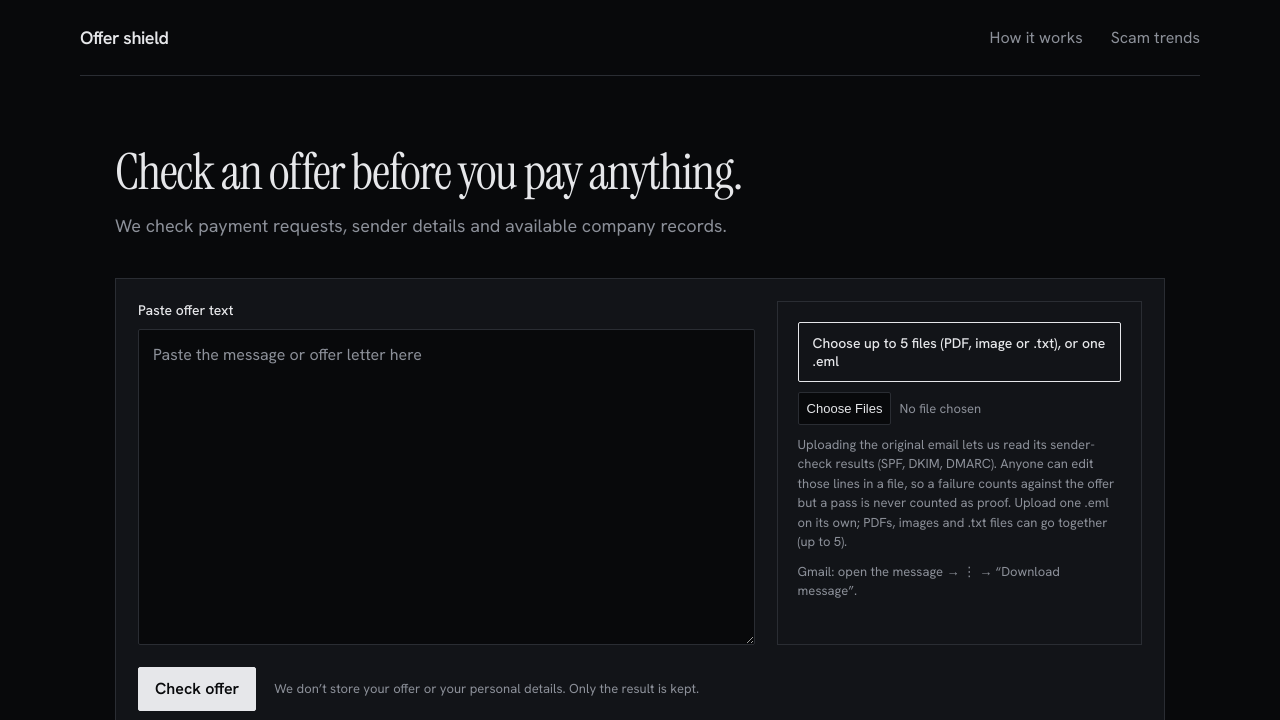
community report consent › allows deselection, requires consent and does not store the withdrawal code
The width and height of the screenshot is (1280, 720).
In the text box labelled "Paste offer text": point(446, 487) top-left (138, 329), bottom-right (755, 645), type "Test offer text"
Click the button "Check offer": point(197, 689) top-left (138, 667), bottom-right (256, 711)
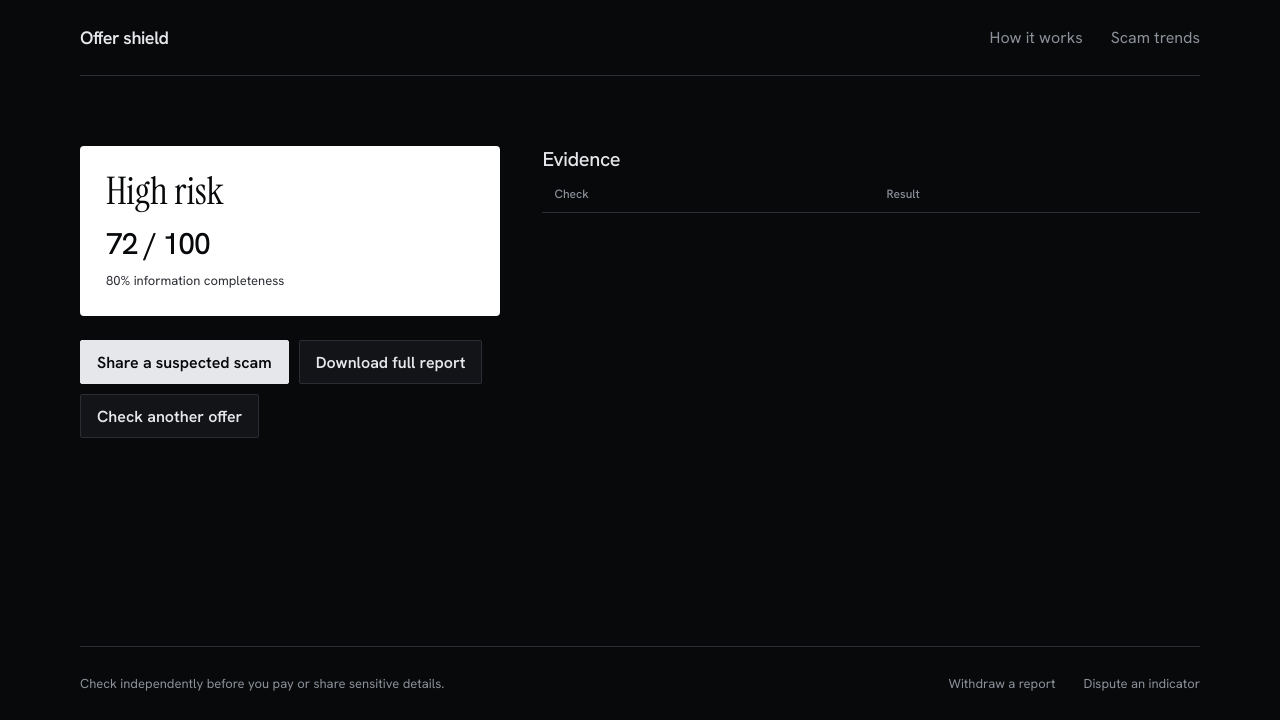
Click the button "Share a suspected scam": point(184, 362) top-left (80, 340), bottom-right (289, 384)
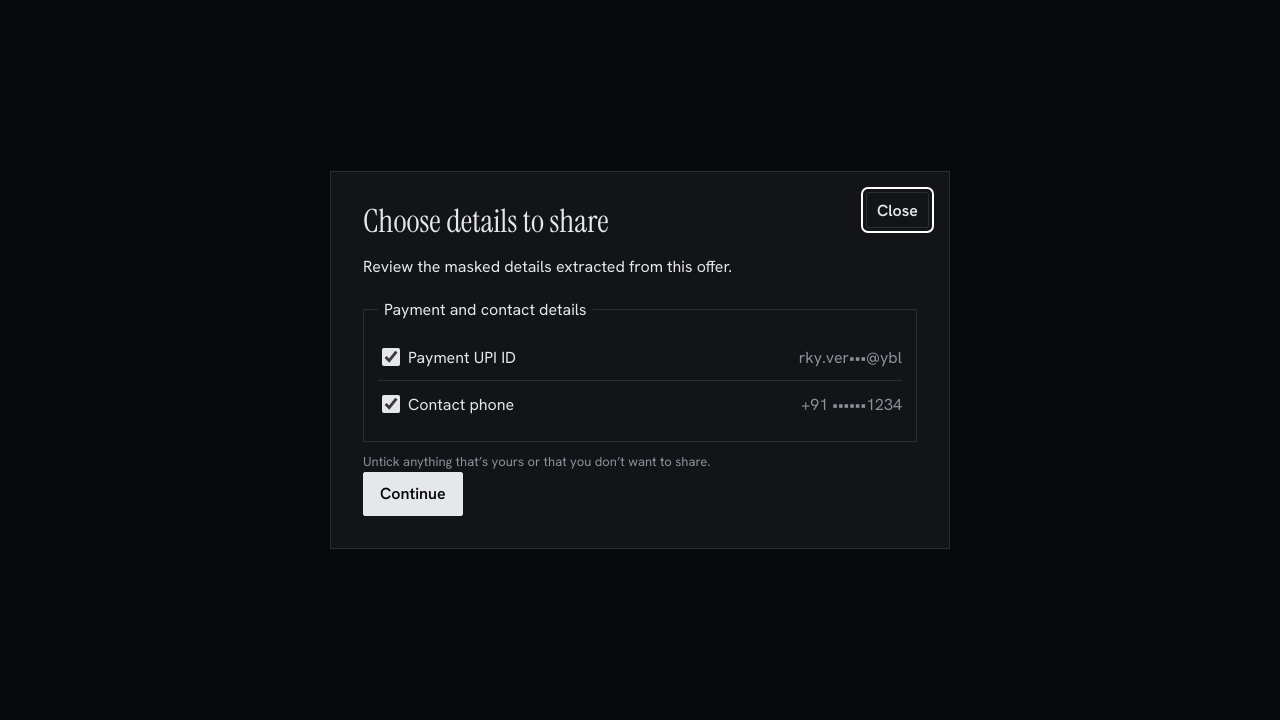
Click the checkbox labelled "Payment UPI ID rky.ver•••@ybl": point(391, 357) top-left (382, 348), bottom-right (400, 366)
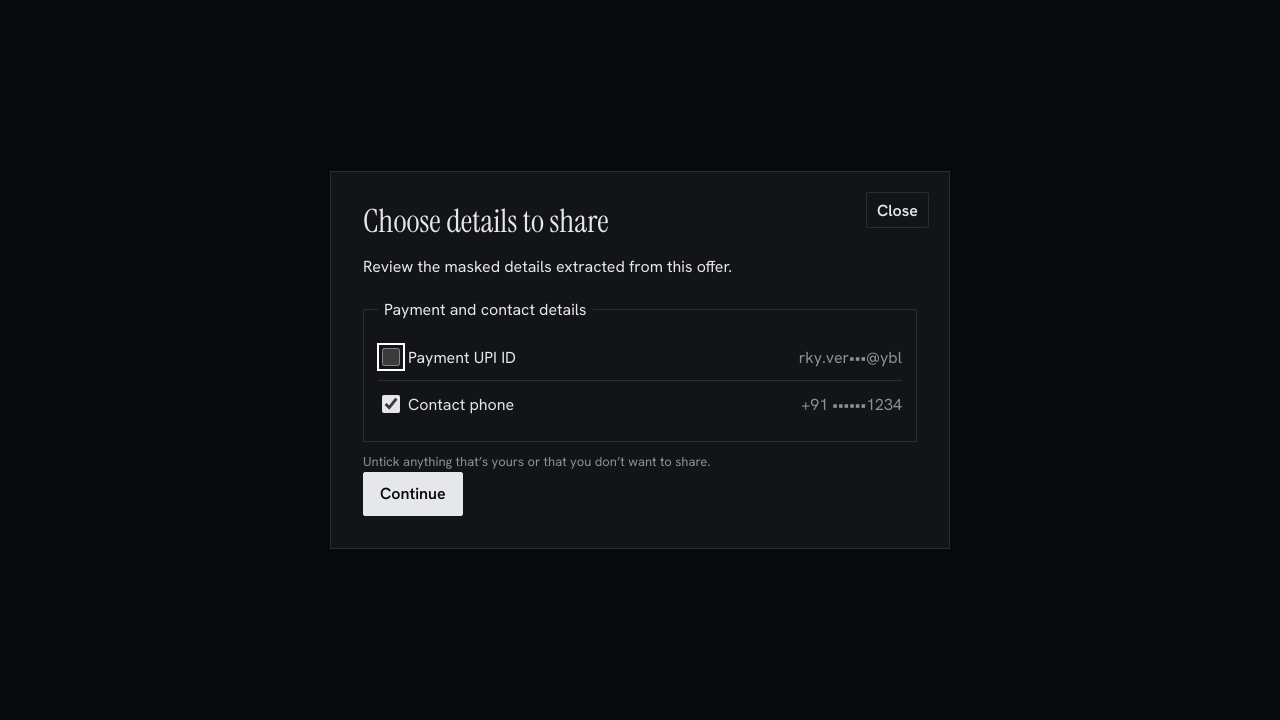
Click the button "Continue": point(413, 494) top-left (363, 472), bottom-right (463, 516)
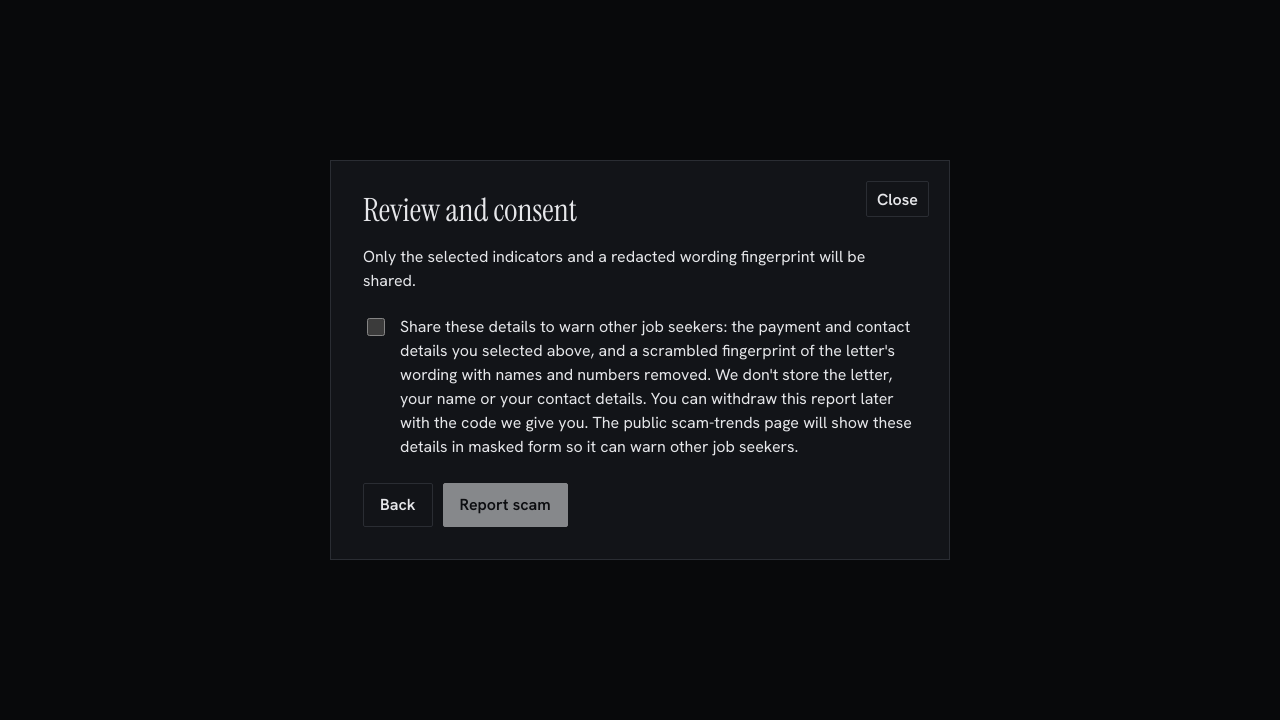
Check: the button "Report scam" is disabled, box top-left (443, 483), bottom-right (568, 527)
Click the checkbox named "Share these details to warn other job seekers: the payment and contact details you selected above, and a scrambled finge": point(376, 327) top-left (367, 318), bottom-right (385, 336)
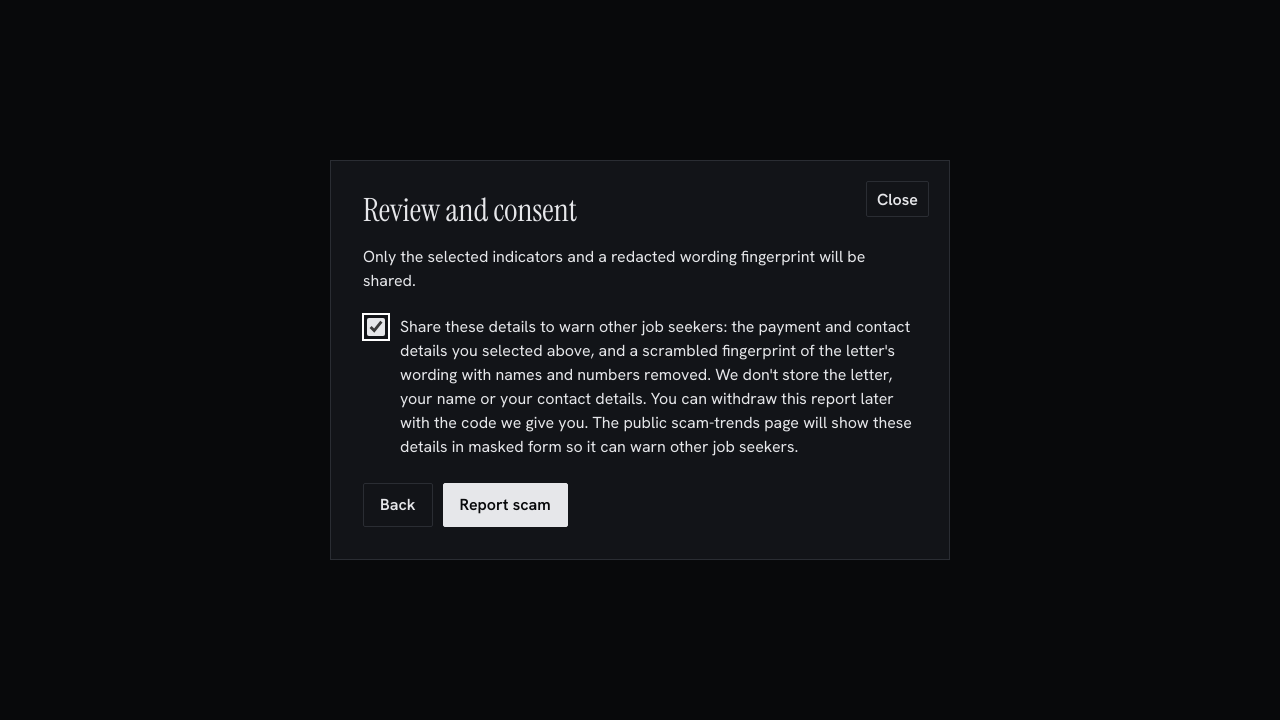
Check: the button "Report scam" is enabled
Click the button "Report scam": point(505, 505) top-left (443, 483), bottom-right (568, 527)
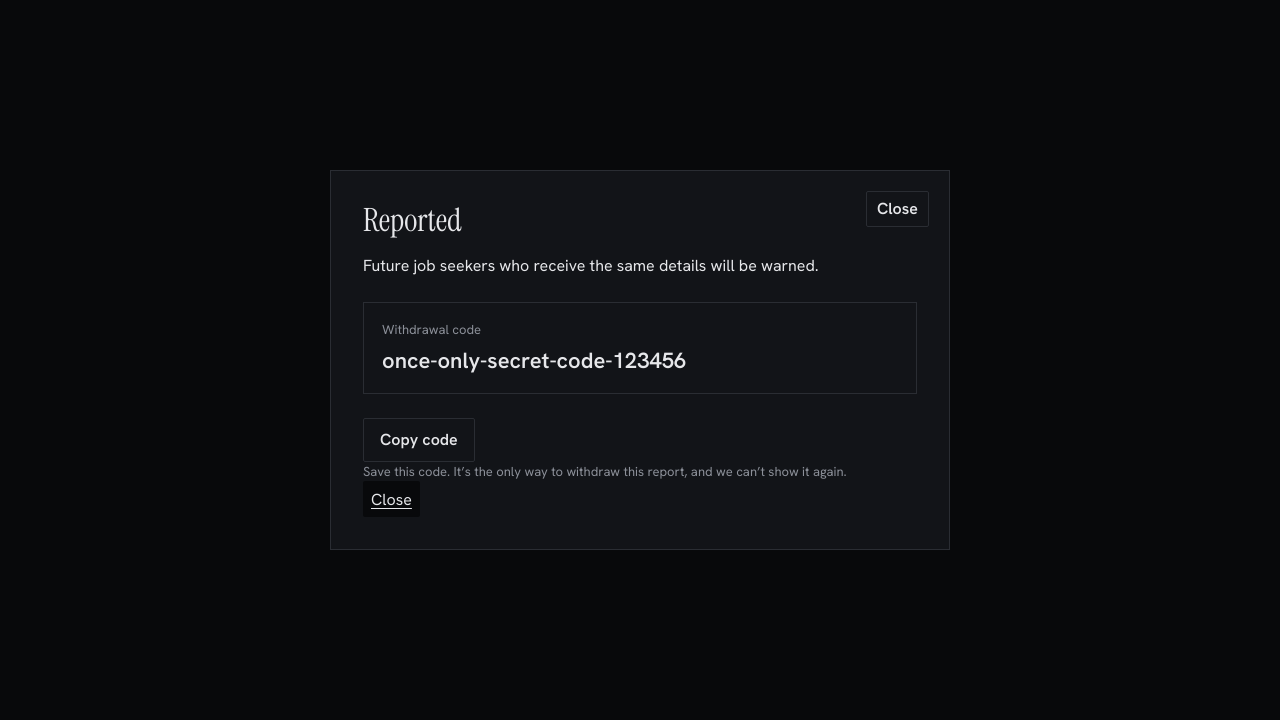
Check: the text "once-only-secret-code-123456" is shown, box top-left (382, 346), bottom-right (686, 375)
